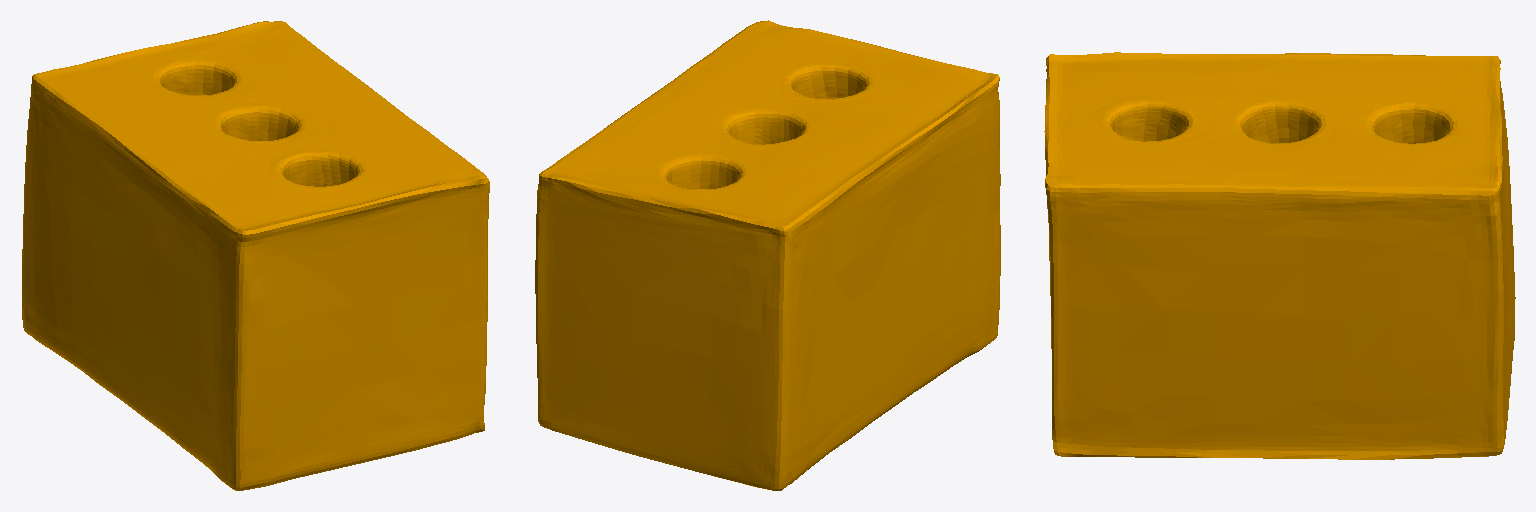
URDF robot description (potted_meat_can):
<?xml version="1.0"?>
<robot name="potted_meat_can">
  <link name="potted_meat_can">
    <visual>
      <origin xyz="0 0 0" rpy="0 0 0"/>
      <geometry>
        <mesh filename="textured.obj" scale="1 1 1"/>
      </geometry>
    </visual>

    <collision>
      <origin xyz="0 0 0" rpy="0 0 0"/>
      <geometry>
        <mesh filename="nontextured.stl" scale="1 1 1"/>
      </geometry>
    </collision>

    <inertial>
      <origin xyz="0 0 0" rpy="0 0 0"/>
      <mass value="0.026"/>
      <inertia ixx="0.0001" ixy="0.0" ixz="0.0" iyy="0.0001" iyz="0.0" izz="0.0001"/>
    </inertial>
  </link>
</robot>

--- What the picture shows (computed from the rendered views, not written in the file) ---
Views: 3 orthographic renders of the robot side by side, from view 1: azimuth 30°, elevation 25°; view 2: azimuth 150°, elevation 25°; view 3: azimuth 270°, elevation 25°.
Robot: potted_meat_can — 1 links, 0 joints (none); root link potted_meat_can; default pose: all joints at 0.
Links seen in each view (by area): view 1: potted_meat_can; view 2: potted_meat_can; view 3: potted_meat_can.
Boxes of the visible links, box(x1,y1,x2,y2) form: potted_meat_can: box(22, 21, 489, 490); potted_meat_can: box(535, 20, 1000, 490); potted_meat_can: box(1044, 52, 1515, 459).
Size in the robot's own frame: 5.24 by 7.77 by 5.1 metres.
Meshes: 1 distinct files referenced, 1 mesh visuals loaded (1 OBJ).
